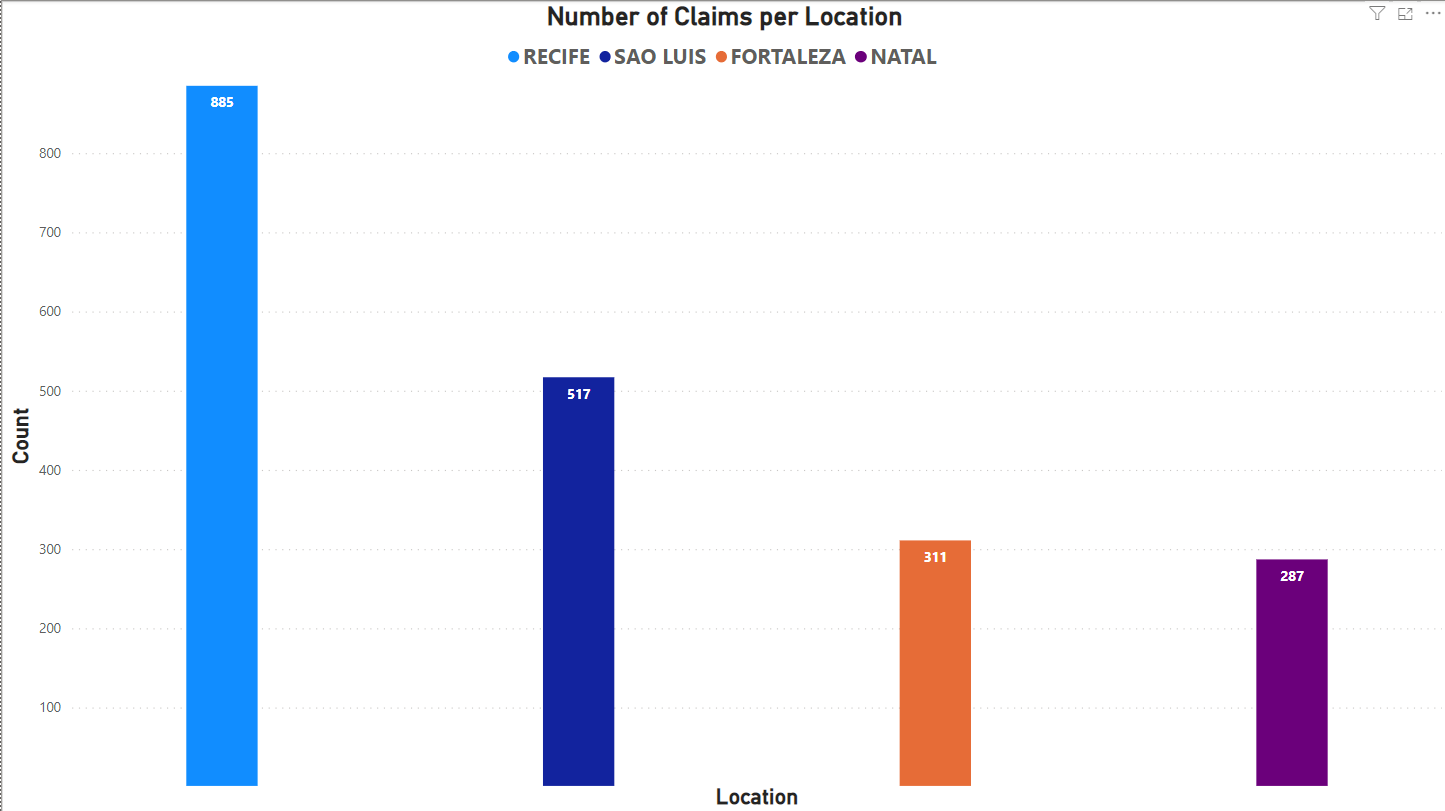

The dashboard page shown, as its layout file describes it:
{"tool":"powerbi","page":{"name":"Number of Claims per Location","canvas":[1280,720],"ordinal":0},"visuals":[{"type":"clusteredColumnChart","title":"Number of Claims per Location","fields":{"Y":["CountNonNull(food_claims_2212.claim_id)"],"Category":["food_claims_2212.location"],"Series":["food_claims_2212.location"]},"box":[0,0,1279.7,720],"z":0}]}

Visuals, with their boxes in screenshot pixels (x1, y1, x2, y2), scaled from the page's 1280x720 canvas onto the 1445x811 screenshot:
"Number of Claims per Location" clusteredColumnChart: detection(0, 0, 1444, 810)
